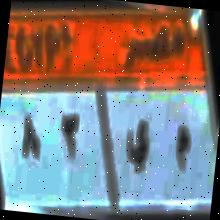3: (56, 104, 84, 173)
8: (19, 113, 44, 169)
meem: (170, 115, 194, 176)
yaa: (119, 111, 153, 174)
